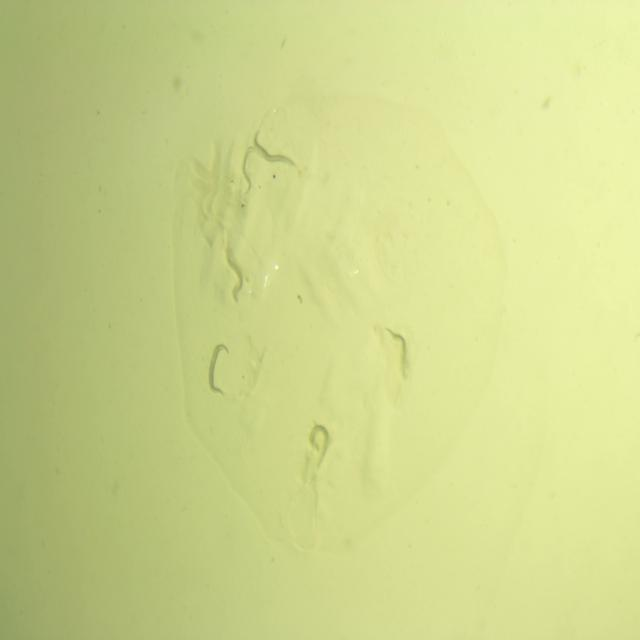worm: (248, 128, 301, 173), (382, 324, 416, 384), (235, 142, 268, 200), (204, 338, 234, 401), (303, 422, 336, 472), (222, 249, 247, 312)
